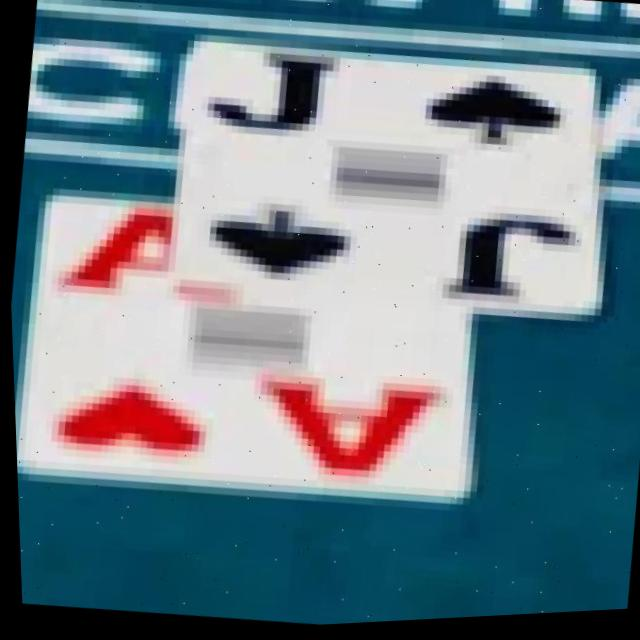Card-A: (14, 194, 469, 504)
Card-J: (180, 38, 595, 321)
